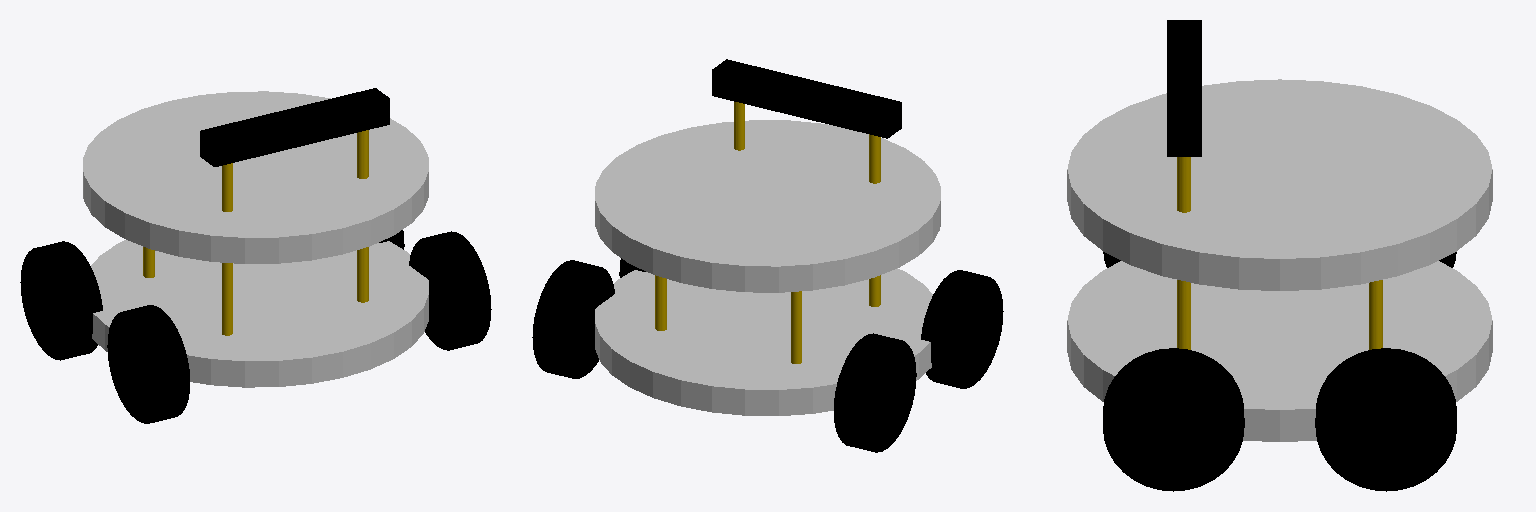
URDF robot description (ultron):
<?xml version='1.0'?>

<robot name="ultron">
  <gazebo reference="chassis_top">
      <material>Gazebo/Blue</material>
  </gazebo>

  <!-- < Materials > -->

  <material name="white">
    <color rgba="0.8 0.8 0.8 1"/>
  </material>

  <material name="gold">
    <color rgba="0.75 0.63 0 1"/>
  </material>

  <material name="black">
    <color rgba="0 0 0 1"/>
  </material>

  <!-- < Chassis Top Parent Link > -->

  <link name='chassis_top'>
    <pose>0 0 0.1 0 0 0</pose>

    <inertial>
      <mass value="1.0"/>
      <origin xyz="0.0 0 0" rpy=" 0 0 0"/>
      <inertia
          ixx="0" ixy="0" ixz="0"
          iyy="0" iyz="0"
          izz="0"
      />
    </inertial>

    <collision name='chassis_collision'>
      <origin xyz="0 0 0.125" rpy=" 0 0 0"/> 
      <geometry>
        <cylinder length="0.025" radius="0.15"/>
      </geometry>
    </collision>

    <visual name='chassis_visual'>
      <origin xyz="0 0 0.125" rpy=" 0 0 0"/>
      <geometry>
       <cylinder length="0.025" radius="0.15"/>
      </geometry>
      <material name="white"/>
    </visual>

  </link>

  <!-- < Chassis Bottom Component > -->

  <link name='chassis_bottom'>
    <pose>0 0 0.1 0 0 0</pose>

    <inertial>
      <mass value="1.0"/>
      <origin xyz="0.0 0 0" rpy=" 0 0 0"/>
      <inertia
          ixx="0" ixy="0" ixz="0"
          iyy="0" iyz="0"
          izz="0"
      />
    </inertial>

    <collision name='chassis_collision'>
      <origin xyz="0 0 0.0" rpy=" 0 0 0"/> 
      <geometry>
        <cylinder length="0.025" radius="0.15"/>
      </geometry>
    </collision>

    <visual name='chassis_visual'>
      <origin xyz="0 0 0.0" rpy=" 0 0 0"/>
      <geometry>
       <cylinder length="0.025" radius="0.15"/>
      </geometry>
      <material name="white"/>
    </visual>

  </link>
  
  <joint name="joint_chassis_top_bottom" type="fixed">
    <origin xyz="0.0 0.0 0.0075" rpy="0.0 0.0 0.0"/>
    <parent link="chassis_top"/>
    <child link="chassis_bottom"/>
  </joint>

  <!-- < Wheels Back Left Component > -->

  <link name="wheels_back_left">
    <pose>0 0 0.1 0 0 0</pose>

    <inertial>
      <mass value="0.5"/>
      <origin xyz="0.0 0 0" rpy=" 0 0 0"/>
      <inertia
          ixx="0" ixy="0" ixz="0"
          iyy="0" iyz="0"
          izz="0"
      />
    </inertial>

    <collision name='left_wheel_collision'>
      <origin xyz="0 0 0" rpy=" 0 1.57075 0"/>
      <geometry>
        <cylinder length="0.025" radius="0.05"/>
      </geometry>
    </collision>

    <visual name='left_wheel_visual'>
      <origin xyz="0 0 0" rpy=" 0 1.57075 0"/>
      <geometry>
        <cylinder length="0.025" radius="0.05"/>
      </geometry>
      <material name="black"/>
    </visual>
  </link>

  <joint name="joint_chassis_wheels_back_left" type="continuous">
    <origin xyz="-0.15 0.075 0.0125" rpy=" 0 0 0"/>
    <parent link="chassis_top"/>
    <child link="wheels_back_left"/>
    <axis xyz="1.0 0.0 0.0"/>
    <limit lower="0.0" upper="0.0" effort="50.0" velocity="0.5"/>
  </joint>

  <!-- < Wheels Front Right Component > -->

  <link name="wheels_back_right">
    <pose>0 0 0.1 0 0 0</pose>

    <inertial>
      <mass value="0.5"/>
      <origin xyz="0 0 0" rpy=" 0 0 0"/>
      <inertia
          ixx="0" ixy="0" ixz="0"
          iyy="0" iyz="0"
          izz="0"
      />
    </inertial>

    <collision name='right_wheel_collision'>
      <origin xyz="0 0 0" rpy=" 0 1.57075 0"/>
      <geometry>
        <cylinder length="0.025" radius="0.05"/>
      </geometry>
    </collision>

    <visual name='right_wheel_visual'>
      <origin xyz="0 0 0" rpy=" 0 1.57075 0"/>
      <geometry>
        <cylinder length="0.025" radius="0.05"/>
      </geometry>
      <material name="black"/>
    </visual>
  </link>

  <joint name="joint_chassis_wheels_back_right" type="continuous">
    <origin xyz="0.15 0.075 0.0125" rpy=" 0 0 0"/>
    <parent link="chassis_top"/>
    <child link="wheels_back_right"/>
    <axis xyz="1.0 0.0 0.0"/>
    <limit lower="0.0" upper="0.0" effort="50.0" velocity="0.5"/>
  </joint>

  <!-- < Wheels Front Left Component > -->

  <link name="wheels_front_left">
    <pose>0 0 0.1 0 0 0</pose>

    <inertial>
      <mass value="0.5"/>
      <origin xyz="0.0 0 0" rpy=" 0 0 0"/>
      <inertia
          ixx="0" ixy="0" ixz="0"
          iyy="0" iyz="0"
          izz="0"
      />
    </inertial>

    <collision name='left_wheel_collision'>
      <origin xyz="0 0 0" rpy=" 0 1.57075 0"/>
      <geometry>
        <cylinder length="0.025" radius="0.05"/>
      </geometry>
    </collision>

    <visual name='left_wheel_visual'>
      <origin xyz="0 0 0" rpy=" 0 1.57075 0"/>
      <geometry>
        <cylinder length="0.025" radius="0.05"/>
      </geometry>
      <material name="black"/>
    </visual>
  </link>

  <joint name="joint_chassis_wheels_front_left" type="continuous">
    <origin xyz="-0.15 -0.075 0.0125" rpy=" 0 0 0"/>
    <parent link="chassis_top"/>
    <child link="wheels_front_left"/>
    <axis xyz="1.0 0.0 0.0"/>
    <limit lower="0.0" upper="0.0" effort="50.0" velocity="0.5"/>
  </joint>
    
  <!-- < Wheels Front Right Component > -->

  <link name="wheels_front_right">
    <pose>0 0 0.1 0 0 0</pose>

    <inertial>
      <mass value="0.5"/>
      <origin xyz="0.0 0 0" rpy=" 0 0 0"/>
      <inertia
          ixx="0" ixy="0" ixz="0"
          iyy="0" iyz="0"
          izz="0"
      />
    </inertial>

    <collision name='right_wheel_collision'>
      <origin xyz="0 0 0" rpy=" 0 1.57075 0"/>
      <geometry>
        <cylinder length="0.025" radius="0.05"/>
      </geometry>
    </collision>

    <visual name='right_wheel_visual'>
      <origin xyz="0 0 0" rpy=" 0 1.57075 0"/>
      <geometry>
        <cylinder length="0.025" radius="0.05"/>
      </geometry>
      <material name="black"/>
    </visual>
  </link>

  <joint name="joint_chassis_wheels_front_right" type="continuous">
    <origin xyz="0.15 -0.075 0.0125" rpy=" 0 0 0"/>
    <parent link="chassis_top"/>
    <child link="wheels_front_right"/>
    <axis xyz="1.0 0.0 0.0"/>
    <limit lower="0.0" upper="0.0" effort="50.0" velocity="0.5"/>
  </joint>

  <!-- < Bottom Connector Component > -->

  <link name="connector_bottom_back_right">
  <pose>0 0 0.1 0 0 0</pose>

    <inertial>
      <mass value="1.0"/>
      <origin xyz="0.0 0 0" rpy=" 0 0 0"/>
      <inertia
          ixx="0" ixy="0" ixz="0"
          iyy="0" iyz="0"
          izz="0"
      />
    </inertial>

    <collision name='connector_0_collision'>
      <origin xyz="0 0 0" rpy=" 0 0 0"/>
      <geometry>
        <cylinder length="0.1" radius="0.005"/>
      </geometry>
    </collision>

    <visual name='connector_0_visual'>
      <origin xyz="0 0 0" rpy=" 0 0 0"/>
      <geometry>
        <cylinder length="0.1" radius="0.005"/>
      </geometry>
      <material name="gold"/>
    </visual>
     </link>

  <joint name="joint_chassis_top_bbr_connector" type="fixed">
    <origin xyz="0.0675 0.0675 0.065" rpy="0.0 0.0 0.0"/>
    <parent link="chassis_top"/>
    <child link="connector_bottom_back_right"/>
  </joint> 

  <!-- < Bottom Connector Component > -->

 <link name="connector_bottom_back_left">
  <pose>0 0 0.1 0 0 0</pose>

    <inertial>
      <mass value="1.0"/>
      <origin xyz="0.0 0 0" rpy=" 0 0 0"/>
      <inertia
          ixx="0" ixy="0" ixz="0"
          iyy="0" iyz="0"
          izz="0"
      />
    </inertial>

    <collision name='connector_1_collision'>
      <origin xyz="0 0 0" rpy=" 0 0 0"/>
      <geometry>
        <cylinder length="0.1" radius="0.005"/>
      </geometry>
    </collision>

    <visual name='connector_1_visual'>
      <origin xyz="0 0 0" rpy=" 0 0 0"/>
      <geometry>
        <cylinder length="0.1" radius="0.005"/>
      </geometry>
      <material name="gold"/>
    </visual>
  </link>

  <joint name="joint_chassis_top_bbl_connector" type="fixed">
    <origin xyz="-0.0675 0.0675 0.065" rpy="0.0 0.0 0.0"/>
    <parent link="chassis_top"/>
    <child link="connector_bottom_back_left"/>
   </joint>

<!-- < Bottom Front Left Connector Component > -->

 <link name="connector_bottom_front_right">
  <pose>0 0 0.1 0 0 0</pose>

    <inertial>
      <mass value="1.0"/>
      <origin xyz="0.0 0 0" rpy=" 0 0 0"/>
      <inertia
          ixx="0" ixy="0" ixz="0"
          iyy="0" iyz="0"
          izz="0"
      />
    </inertial>

    <collision name='connector_2_collision'>
      <origin xyz="0 0 0" rpy=" 0 0 0"/>
      <geometry>
        <cylinder length="0.1" radius="0.005"/>
      </geometry>
    </collision>

    <visual name='connector_2_visual'>
      <origin xyz="0 0 0" rpy=" 0 0 0"/>
      <geometry>
        <cylinder length="0.1" radius="0.005"/>
      </geometry>
      <material name="gold"/>
    </visual>
  </link>

  <joint name="joint_chassis_top_bfr_connector" type="fixed">
    <origin xyz="-0.0675 -0.0675 0.065" rpy="0.0 0.0 0.0"/>
    <parent link="chassis_top"/>
    <child link="connector_bottom_front_right"/>
  </joint>

  <!-- < Bottom Front Left Connector Component > -->

 <link name="connector_bottom_front_left">
  <pose>0 0 0.1 0 0 0</pose>

    <inertial>
      <mass value="1.0"/>
      <origin xyz="0.0 0 0" rpy=" 0 0 0"/>
      <inertia
          ixx="0" ixy="0" ixz="0"
          iyy="0" iyz="0"
          izz="0"
      />
    </inertial>

    <collision name='connector_3_collision'>
      <origin xyz="0 0 0" rpy=" 0 0 0"/>
      <geometry>
        <cylinder length="0.1" radius="0.005"/>
      </geometry>
    </collision>

    <visual name='connector_3_visual'>
      <origin xyz="0 0 0" rpy=" 0 0 0"/>
      <geometry>
        <cylinder length="0.1" radius="0.005"/>
      </geometry>
      <material name="gold"/>
    </visual>
  </link>

  <joint name="joint_chassis_top_bfl_connector" type="fixed">
    <origin xyz="0.0675 -0.0675 0.065" rpy="0.0 0.0 0.0"/>
    <parent link="chassis_top"/>
    <child link="connector_bottom_front_left"/>
  </joint>

  <!-- < Top Right Connector Component > -->

  <link name="connector_top_right">
  <pose>0 0 0.1 0 0 0</pose>

    <inertial>
      <mass value="1.0"/>
      <origin xyz="0.0 0 0" rpy=" 0 0 0"/>
      <inertia
          ixx="0" ixy="0" ixz="0"
          iyy="0" iyz="0"
          izz="0"
      />
    </inertial>

    <collision name='connector_0_collision'>
      <origin xyz="0 0 0" rpy=" 0 0 0"/>
      <geometry>
        <cylinder length="0.075" radius="0.005"/>
      </geometry>
    </collision>

    <visual name='connector_0_visual'>
      <origin xyz="0 0 0" rpy=" 0 0 0"/>
      <geometry>
        <cylinder length="0.05" radius="0.005"/>
      </geometry>
      <material name="gold"/>
    </visual>
  </link>

  <joint name="joint_chassis_top_top_right_connector" type="fixed">
    <origin xyz="0.0675 -0.0675 0.1625" rpy="0.0 0.0 0.0"/>
    <parent link="chassis_top"/>
    <child link="connector_top_right"/>
  </joint>

  <!-- < Top Left Connector Component > -->


  <link name="connector_top_left">
  <pose>0 0 0.1 0 0 0</pose>

    <inertial>
      <mass value="1.0"/>
      <origin xyz="0.0 0 0" rpy=" 0 0 0"/>
      <inertia
          ixx="0" ixy="0" ixz="0"
          iyy="0" iyz="0"
          izz="0"
      />
    </inertial>

    <collision name='connector_1_collision'>
      <origin xyz="0 0 0" rpy=" 0 0 0"/>
      <geometry>
        <cylinder length="0.05" radius="0.005"/>
      </geometry>
    </collision>

    <visual name='connector_1_visual'>
      <origin xyz="0 0 0" rpy=" 0 0 0"/>
      <geometry>
        <cylinder length="0.05" radius="0.005"/>
      </geometry>
      <material name="gold"/>
    </visual>
  </link>

  <joint name="joint_chassis_top_top_left_connector" type="fixed">
    <origin xyz="-0.0675 -0.0675 0.1625" rpy="0.0 0.0 0.0"/>
    <parent link="chassis_top"/>
    <child link="connector_top_left"/>
  </joint>

   <!-- < Head Component > -->

  <joint name="joint_chassis_top_head" type="fixed">
    <origin xyz="0 0 0" rpy="0.0 0.0 0.0"/>
    <parent link="chassis_top"/>
    <child link="head"/>
  </joint>

  <link name="head">
  <pose>0 0 0.1 0 0 0</pose>

    <inertial>
      <mass value="0.5"/>
      <origin xyz="0.0 0 0" rpy=" 0 0 0"/>
      <!-- <inertia
          ixx="0.0026" ixy="0" ixz="0"
          iyy="0.00005" iyz="0"
          izz="0.00005"
      />
    </inertial> -->
    <inertia
          ixx="0" ixy="0" ixz="0"
          iyy="0" iyz="0"
          izz="0"
      />
    </inertial>

    <collision name='head'>
      <origin xyz="0 -0.0675 0.2" rpy=" 0 0 0"/>
      <geometry>
          <box size="0.175 0.025 0.025"/>
      </geometry>
    </collision>

    <visual name='head'>
      <origin xyz="0 -0.0675 0.2" rpy=" 0 0 0"/>
      <geometry>
          <box size="0.175 0.025 0.025"/>
      </geometry>
      <material name="black"/>
    </visual>
  </link>
<!-- </robot> -->
  <!-- <gazebo>
     <plugin name="skid_steer_drive_controller" filename="libgazebo_ros_skid_steer_drive.so">
     <updateRate>100.0</updateRate>
     <robotNamespace>/</robotNamespace>
     <leftFrontJoint>joint_chassis_wheels_front_left</leftFrontJoint>
     <rightFrontJoint>joint_chassis_wheels_front_right</rightFrontJoint>
     <leftRearJoint>joint_chassis_wheels_back_left</leftRearJoint>
     <rightRearJoint>joint_chassis_wheels_back_right</rightRearJoint>
     <wheelSeparation>0.03</wheelSeparation>
     <wheelDiameter>0.1</wheelDiameter>
     <robotBaseFrame>chassis_top</robotBaseFrame>
     <torque>20</torque>
     <topicName>cmd_vel</topicName>
     <broadcastTF>false</broadcastTF>
   </plugin>
  </gazebo> -->
  <gazebo>
    <plugin name="object_controller" filename="libgazebo_ros_planar_move.so">
      <commandTopic>input_vel</commandTopic>
      <odometryTopic>ultron_odom</odometryTopic>
      <odometryFrame>ultron_odom</odometryFrame>
      <odometryRate>1.0</odometryRate>
      <robotBaseFrame>chassis_top</robotBaseFrame>
      <publishTF>false</publishTF>
    </plugin>
  </gazebo>

</robot>

--- Facts derived from the render (not from the file) ---
Views: 3 orthographic renders of the robot side by side, from view 1: azimuth 30°, elevation 25°; view 2: azimuth 150°, elevation 25°; view 3: azimuth 270°, elevation 25°.
Model ultron with 13 links and 12 joints (4 continuous, 8 fixed), rooted at chassis_top, posed all joints at 0.
Links seen in each view (by area): view 1: chassis_top, chassis_bottom, wheels_front_left, head, wheels_back_left, wheels_front_right, connector_bottom_front_right, connector_bottom_front_left, connector_top_right; view 2: chassis_top, chassis_bottom, wheels_back_left, head, wheels_front_left, wheels_back_right, connector_bottom_back_left, connector_bottom_back_right, connector_top_left; view 3: chassis_top, chassis_bottom, wheels_back_right, wheels_front_right, head, connector_bottom_back_right, connector_bottom_front_left, connector_top_right.
Boxes of the visible links, box(x1,y1,x2,y2) form: chassis_top: box(83, 91, 428, 263); chassis_bottom: box(91, 240, 428, 387); wheels_front_left: box(107, 305, 189, 423); head: box(200, 88, 389, 166); wheels_back_left: box(20, 241, 102, 360); wheels_front_right: box(409, 231, 491, 350); connector_bottom_front_right: box(222, 263, 232, 335); connector_bottom_front_left: box(357, 247, 368, 302); connector_top_right: box(357, 130, 368, 178); chassis_top: box(595, 120, 940, 292); chassis_bottom: box(595, 268, 932, 415); wheels_back_left: box(834, 333, 916, 452); head: box(712, 59, 901, 138); wheels_front_left: box(921, 270, 1003, 388); wheels_back_right: box(532, 260, 614, 378); connector_bottom_back_left: box(791, 291, 801, 363); connector_bottom_back_right: box(655, 275, 666, 330); connector_top_left: box(869, 134, 880, 183); chassis_top: box(1067, 79, 1492, 290); chassis_bottom: box(1067, 261, 1492, 441); wheels_back_right: box(1315, 348, 1456, 491); wheels_front_right: box(1103, 348, 1244, 491); head: box(1167, 20, 1201, 156); connector_bottom_back_right: box(1369, 280, 1382, 349); connector_bottom_front_left: box(1177, 280, 1190, 349); connector_top_right: box(1177, 157, 1190, 212).
Size in the robot's own frame: 0.325 by 0.3 by 0.25 metres.
Geometry: primitives only (box / cylinder / sphere), no mesh files.
